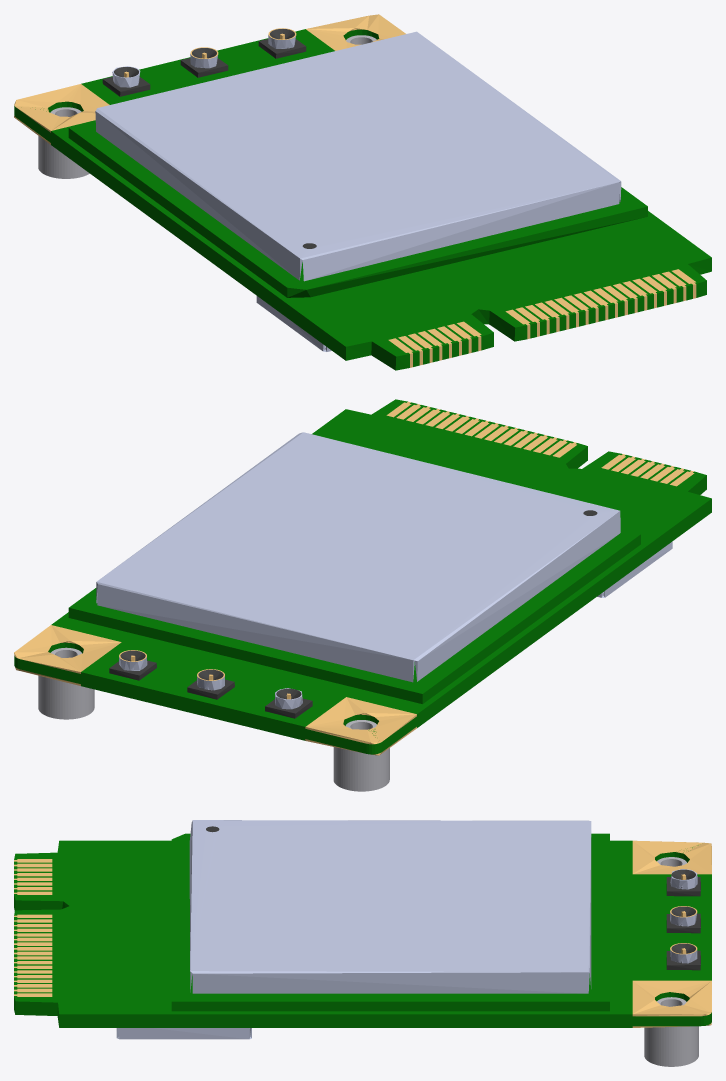
The model's file is EG25_NT4_assembly.obj.
3 views of the same model, one above another, from view 1: azimuth 30°, elevation 25°; view 2: azimuth 150°, elevation 25°; view 3: azimuth 270°, elevation 25° (orthographic). The views are drawn at different scales.
Bounding box in the file's own units: 30 × 7.2 × 50.95.
